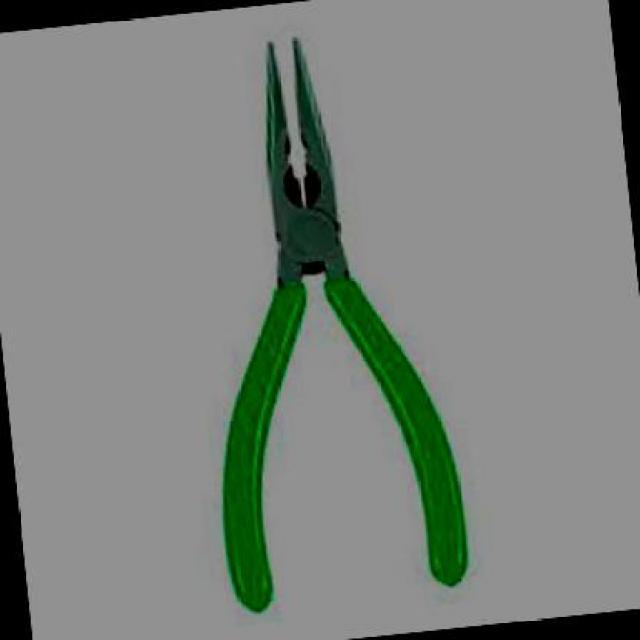pliers: (144, 9, 516, 629)
